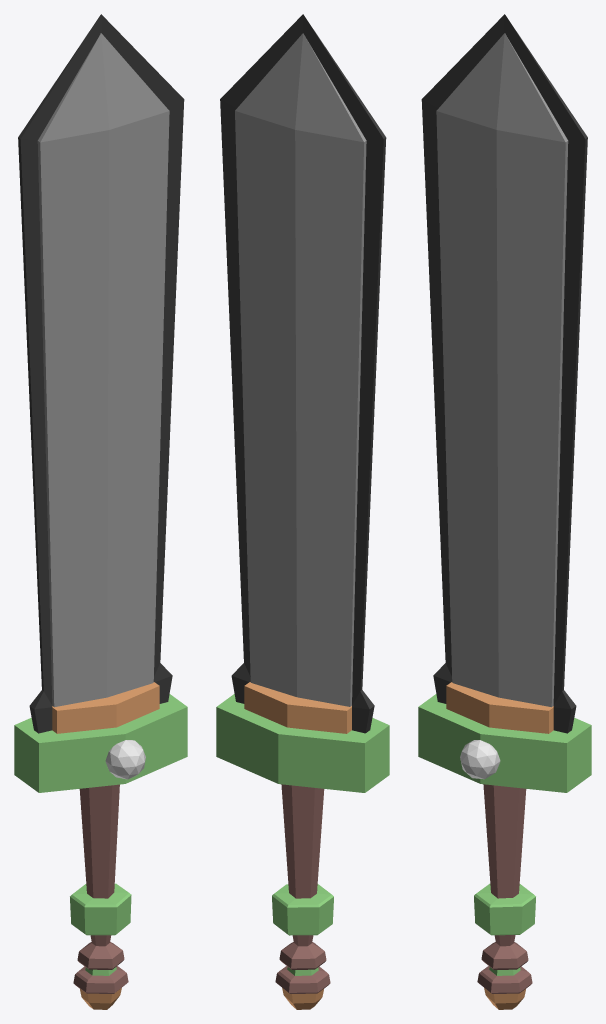
Rendered from Sward.fbx.
3 views of the same model, side by side, from view 1: azimuth 30°, elevation 25°; view 2: azimuth 150°, elevation 25°; view 3: azimuth 330°, elevation 25° (orthographic).
Visible parts, largest first — view 1: Cylinder; view 2: Cylinder; view 3: Cylinder.
Part boxes in pixels (left/top/right/bottom): Cylinder: left=14, top=14, right=187, bottom=1009; Cylinder: left=216, top=14, right=389, bottom=1009; Cylinder: left=418, top=14, right=591, bottom=1009.
Size of the model in its own units: 384 by 2229 by 242.
